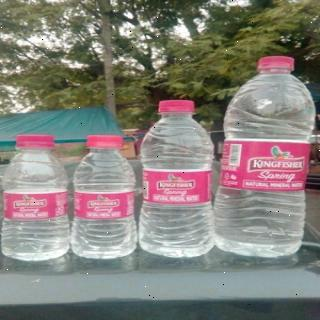Plastic-bottle: (218, 52, 320, 268), (136, 93, 217, 261), (64, 125, 144, 265), (1, 131, 77, 263)
